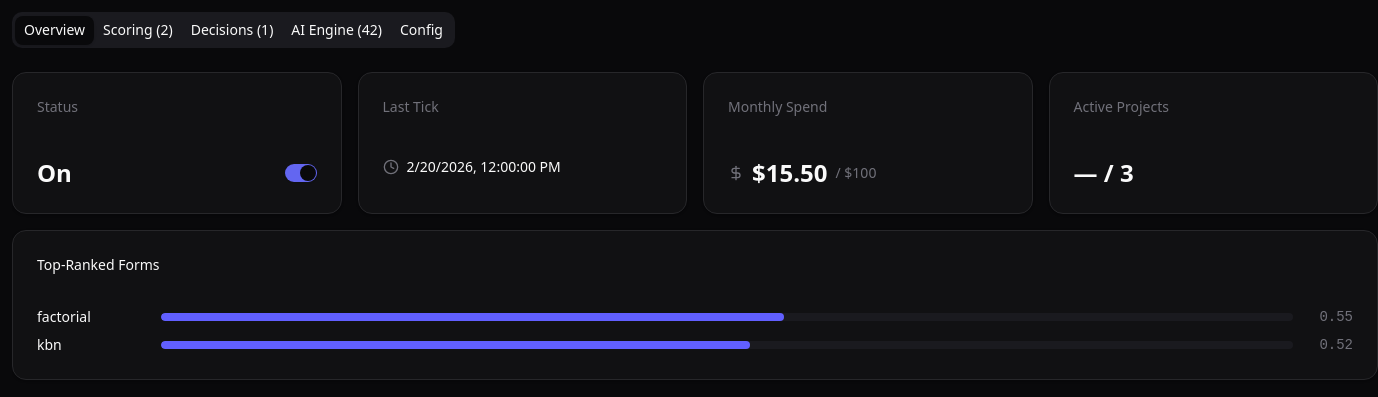
Test: StrategyPage › scoring tab shows form scores in table
The image size is (1378, 397).
Click the tab "Scoring (2)".
click(138, 30)  # box [94,16,182,44]
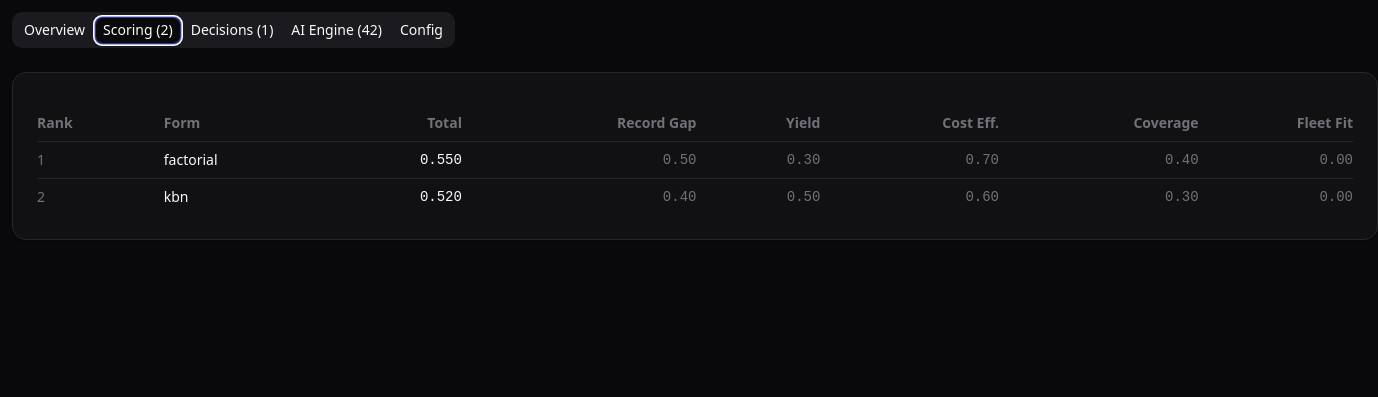
Expected: the text "0.550" is shown, [335,142,478,178]
Expected: the text "0.520" is shown, [335,178,478,215]
